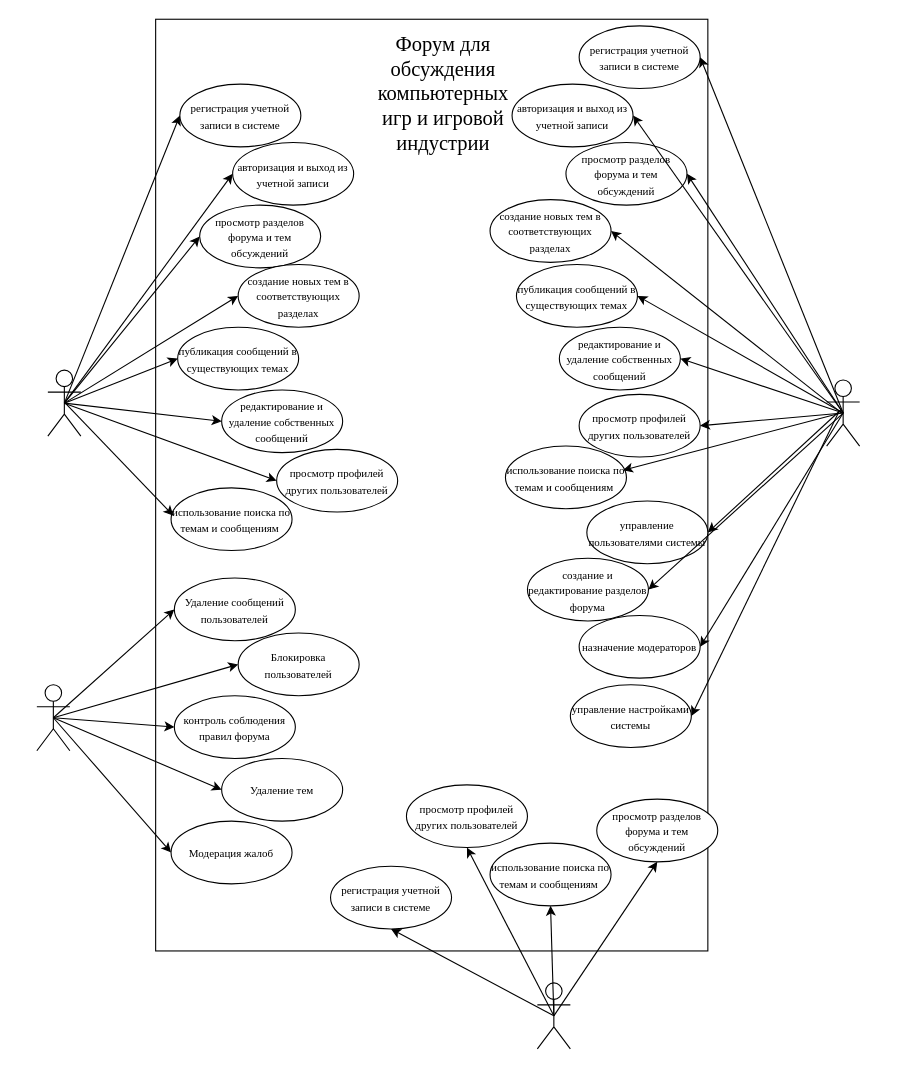
Some shapes in this 910 by 1091 pixel diagram are drawn without their labels. The centre of each missing label's shape, as x and y in pixels:
"Администратор" belongs at point (843, 412).
"Гость" belongs at point (553, 1015).
"Модератор" belongs at point (53, 717).
"Пользователь" belongs at point (64, 402).
